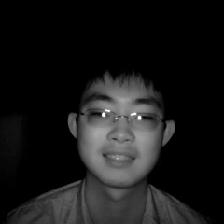happy: (64, 55, 176, 197)
